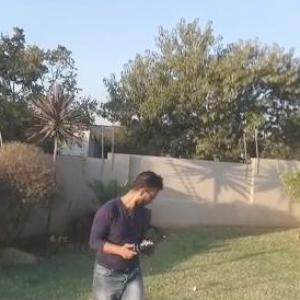follow: (85, 165, 166, 299)
